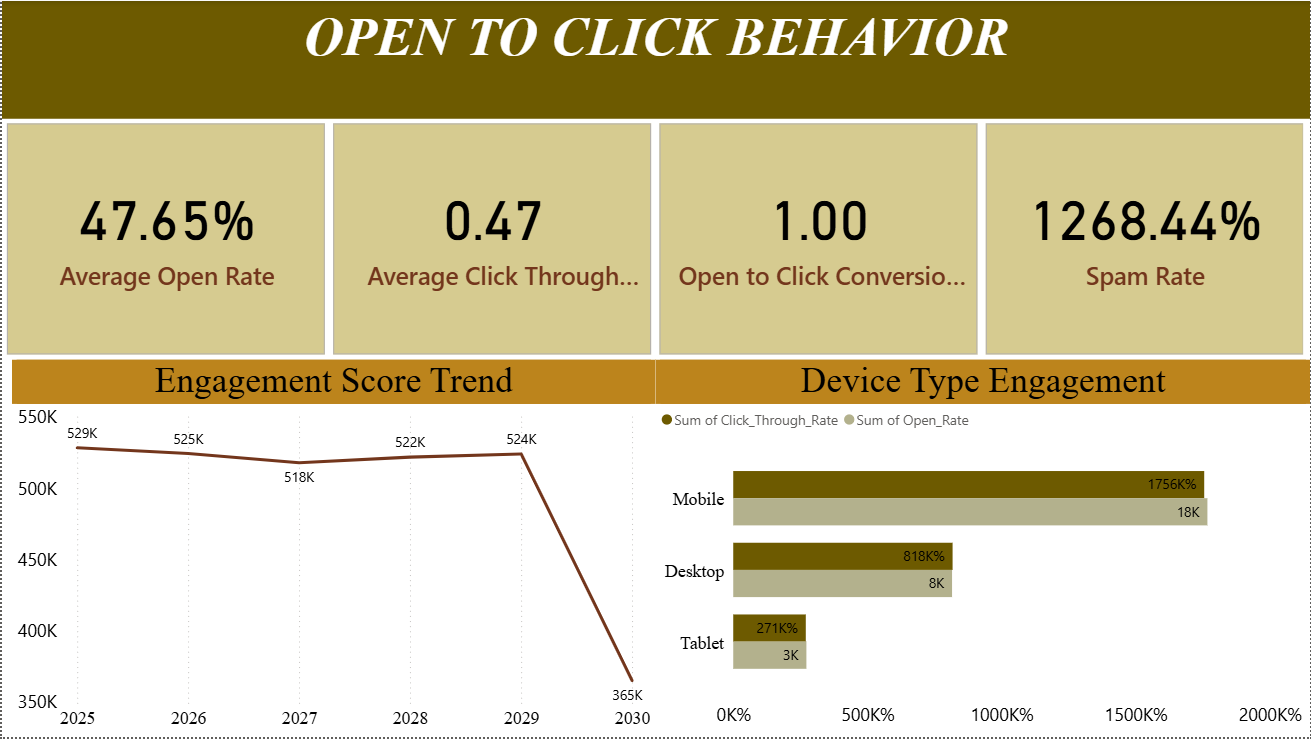

The dashboard page shown, as its layout file describes it:
{"tool":"powerbi","page":{"name":"Engagement KPI","canvas":[1280,720],"ordinal":2},"visuals":[{"type":"cardVisual","fields":{"Data":["Spam Detection Email.Average Open Rate","Spam Detection Email.Average Click Through Rate","Spam Detection Email.Open to Click Conversion Ratio","Spam Detection Email.Spam Rate"]},"box":[0,114.9,1280.3,236],"z":0},{"type":"textbox","box":[0,0,1280.3,114.9],"z":1000},{"type":"lineChart","title":"Engagement Score Trend","fields":{"Category":["Spam Detection Email.Send_Date.Variation.Date Hierarchy.Year","Spam Detection Email.Send_Date.Variation.Date Hierarchy.Quarter","Spam Detection Email.Send_Date.Variation.Date Hierarchy.Month","Spam Detection Email.Send_Date.Variation.Date Hierarchy.Day"],"Y":["Sum(Spam Detection Email.Engagement_Score)"]},"box":[9.8,351,629.8,369.3],"z":2000},{"type":"clusteredBarChart","title":"Device Type Engagement","fields":{"Category":["Spam Detection Email.Device_Type"],"Y":["Sum(Spam Detection Email.Click_Through_Rate)","Sum(Spam Detection Email.Open_Rate)"]},"box":[639.5,351,640.8,369.3],"z":3000}]}

Visuals, with their boxes in screenshot pixels (x1, y1, x2, y2), scaled from the page's 1280x720 canvas onto the 1311x739 screenshot:
cardVisual - Spam Detection Email.Average Open Rate x Spam Detection Email.Average Click Through Rate: bbox=(0, 118, 1310, 360)
textbox: bbox=(0, 0, 1310, 118)
"Engagement Score Trend" lineChart: bbox=(10, 360, 655, 738)
"Device Type Engagement" clusteredBarChart: bbox=(655, 360, 1310, 738)
